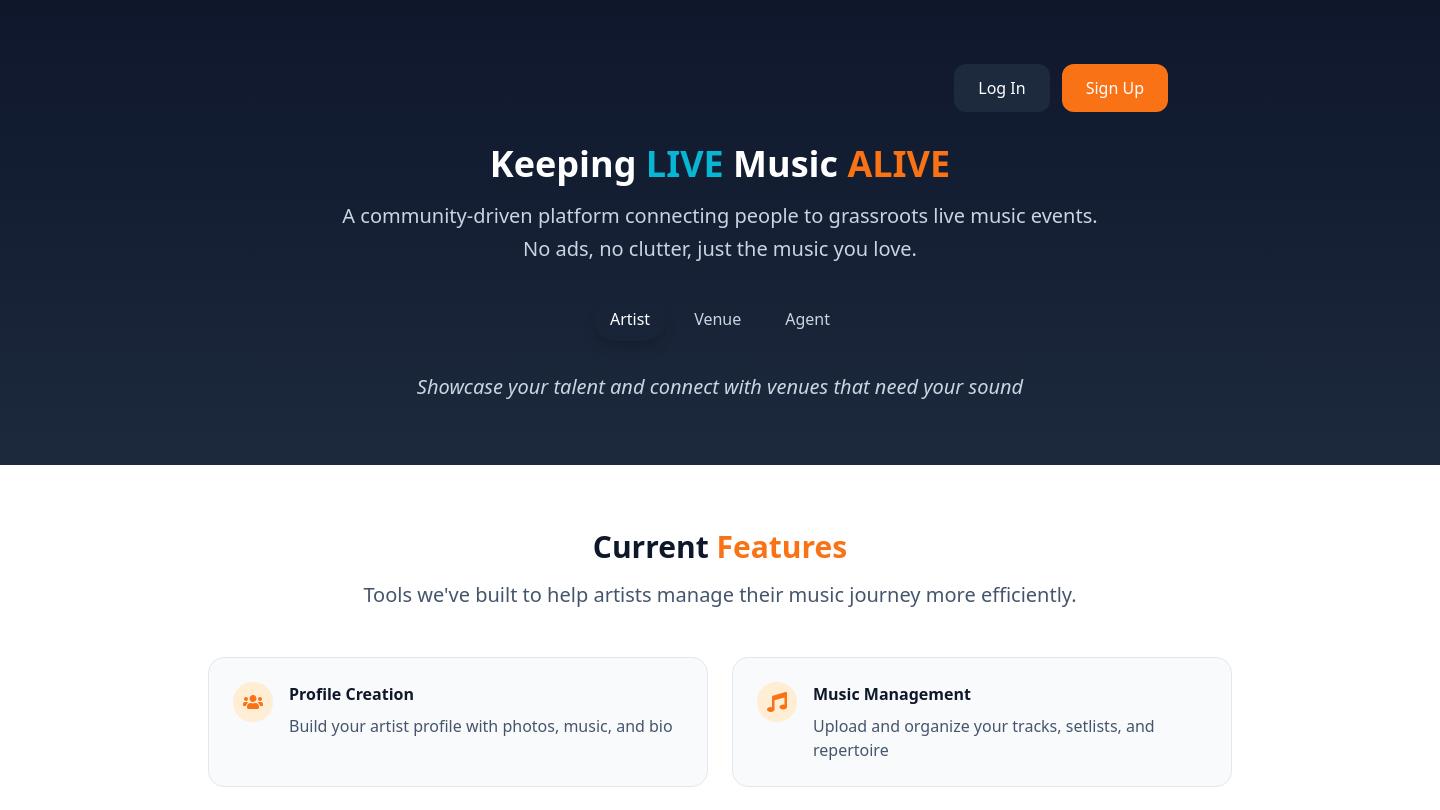
it: Homepage › Persona Selection › should show persona-specific tagline
Expected: the text "Showcase your talent and connect with venues" is shown, 417,373 -> 1023,400
Switch to venue
Click the button with test id "persona-venue": (718, 319) 678,297 -> 757,341
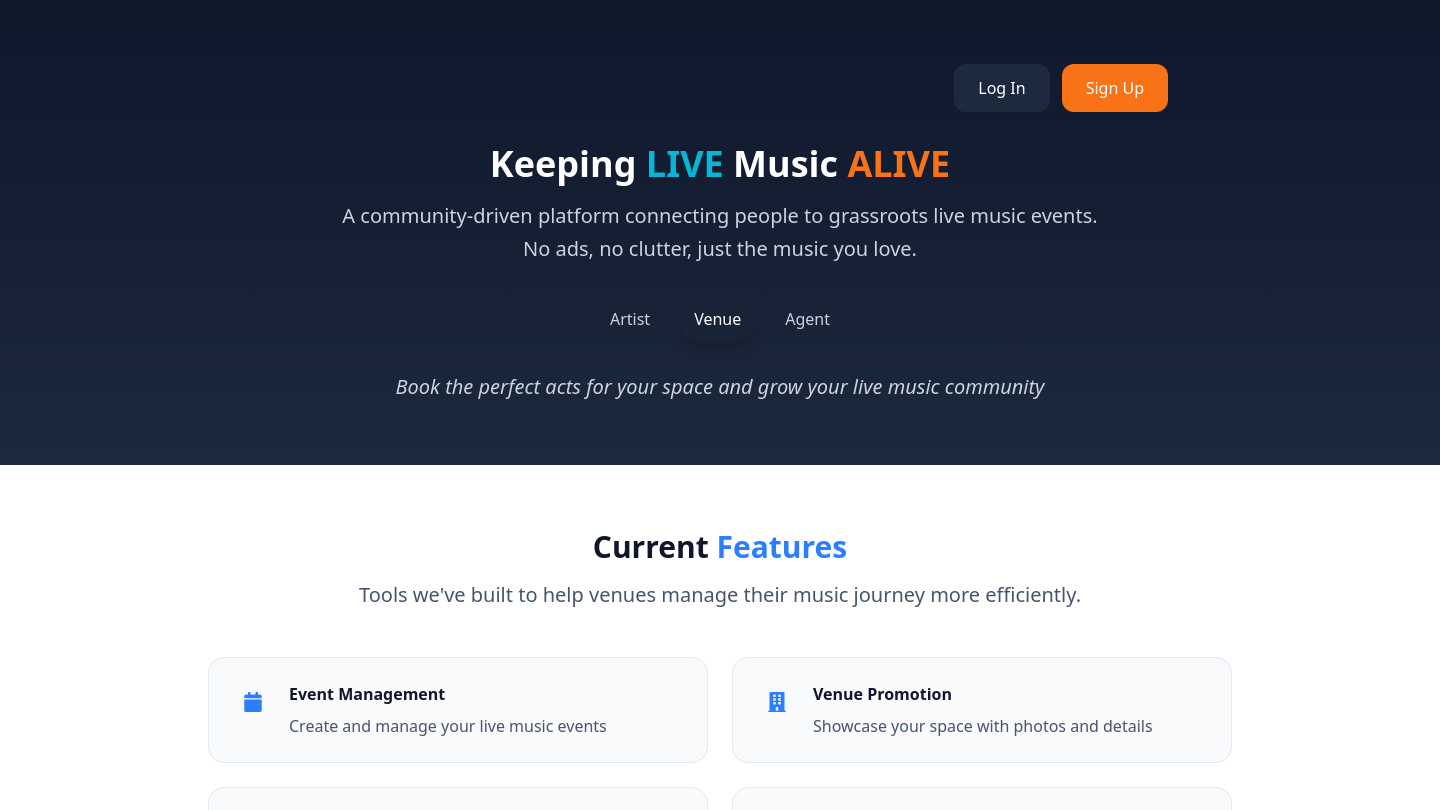
Expected: the text "Book the perfect acts for your space" is shown, 396,373 -> 1044,400
